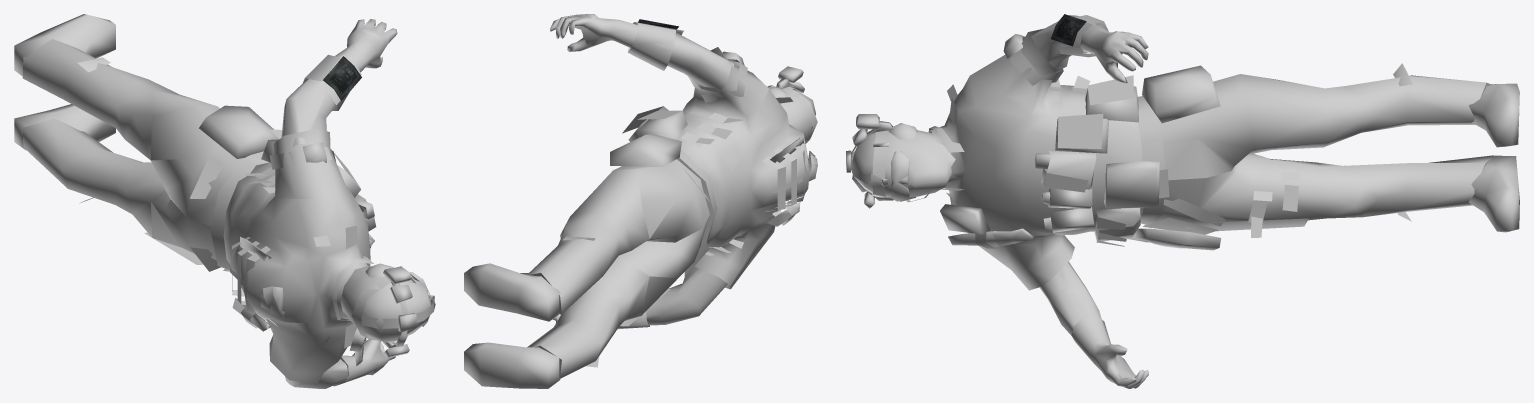
File: c_mul_mp_pmc_smg_fb_LOD2.obj
3 views of the same model, side by side, from view 1: azimuth 30°, elevation 25°; view 2: azimuth 150°, elevation 25°; view 3: azimuth 270°, elevation 25° (orthographic). The views are drawn at different scales.
Parts seen in each view (by area): view 1: mtl_c_mul_mp_pmc_lbr_2_1, mtl_c_mul_mp_pmc_upperbody2, mtl_c_mul_mp_pmc_smg_gear, mtl_c_mul_mp_pmc_gear_main_1, mtl_c_mul_mp_pmc_balaclava, mtl_c_mul_mp_pmc_gloves3, mtl_c_gen_arm_clean_brown, mtl_c_gen_mp_datapad, mtl_c_mul_mp_pmc_helmet1; view 2: mtl_c_mul_mp_pmc_lbr_2_1, mtl_c_mul_mp_pmc_upperbody2, mtl_c_mul_mp_pmc_gear_main_1, mtl_c_mul_mp_pmc_smg_gear, mtl_c_gen_arm_clean_brown, mtl_c_mul_mp_pmc_gloves3, mtl_c_mul_mp_pmc_balaclava; view 3: mtl_c_mul_mp_pmc_lbr_2_1, mtl_c_mul_mp_pmc_smg_gear, mtl_c_mul_mp_pmc_upperbody2, mtl_c_mul_mp_pmc_gear_main_1, mtl_c_mul_mp_pmc_balaclava, mtl_c_mul_mp_pmc_gloves3, mtl_c_gen_arm_clean_brown, mtl_c_mul_mp_pmc_glasses, mtl_c_gen_mp_datapad.
Part boxes in pixels (x1=…): mtl_c_mul_mp_pmc_lbr_2_1: x1=22, y1=39, x2=243, y2=271; mtl_c_mul_mp_pmc_upperbody2: x1=223, y1=162, x2=370, y2=384; mtl_c_mul_mp_pmc_smg_gear: x1=199, y1=54, x2=376, y2=271; mtl_c_mul_mp_pmc_gear_main_1: x1=14, y1=14, x2=374, y2=366; mtl_c_mul_mp_pmc_balaclava: x1=341, y1=263, x2=435, y2=357; mtl_c_mul_mp_pmc_gloves3: x1=333, y1=19, x2=397, y2=386; mtl_c_gen_arm_clean_brown: x1=281, y1=52, x2=364, y2=388; mtl_c_gen_mp_datapad: x1=323, y1=56, x2=361, y2=101; mtl_c_mul_mp_pmc_helmet1: x1=390, y1=284, x2=416, y2=332; mtl_c_mul_mp_pmc_lbr_2_1: x1=527, y1=159, x2=709, y2=378; mtl_c_mul_mp_pmc_upperbody2: x1=676, y1=76, x2=809, y2=289; mtl_c_mul_mp_pmc_gear_main_1: x1=464, y1=136, x2=817, y2=388; mtl_c_mul_mp_pmc_smg_gear: x1=610, y1=22, x2=768, y2=246; mtl_c_gen_arm_clean_brown: x1=626, y1=24, x2=734, y2=325; mtl_c_mul_mp_pmc_gloves3: x1=550, y1=14, x2=649, y2=329; mtl_c_mul_mp_pmc_balaclava: x1=767, y1=66, x2=817, y2=143; mtl_c_mul_mp_pmc_lbr_2_1: x1=1157, y1=63, x2=1493, y2=237; mtl_c_mul_mp_pmc_smg_gear: x1=970, y1=15, x2=1221, y2=250; mtl_c_mul_mp_pmc_upperbody2: x1=929, y1=57, x2=1142, y2=290; mtl_c_mul_mp_pmc_gear_main_1: x1=928, y1=83, x2=1519, y2=249; mtl_c_mul_mp_pmc_balaclava: x1=851, y1=114, x2=957, y2=208; mtl_c_mul_mp_pmc_gloves3: x1=1071, y1=25, x2=1148, y2=388; mtl_c_gen_arm_clean_brown: x1=1031, y1=15, x2=1101, y2=348; mtl_c_mul_mp_pmc_glasses: x1=891, y1=151, x2=909, y2=201; mtl_c_gen_mp_datapad: x1=1050, y1=14, x2=1086, y2=46.
Bounding box in the file's own units: 67.88 × 105 × 184.
